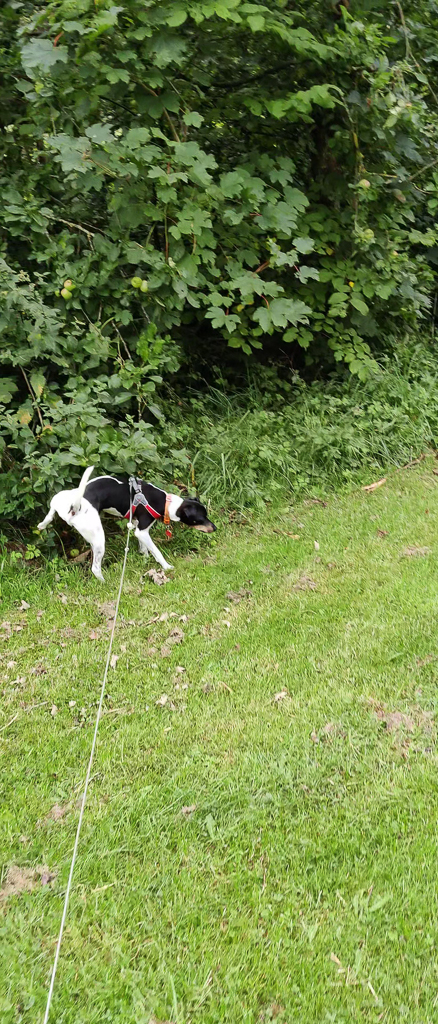Dog: (26, 456, 228, 595)
